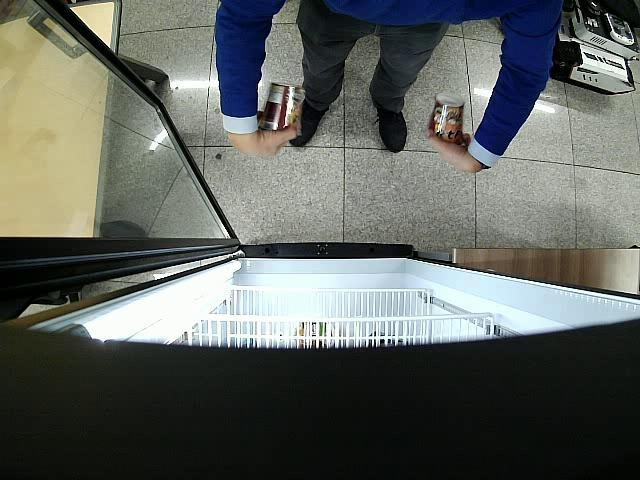06_nuguri_S: (258, 84, 307, 131), (428, 92, 466, 144)
